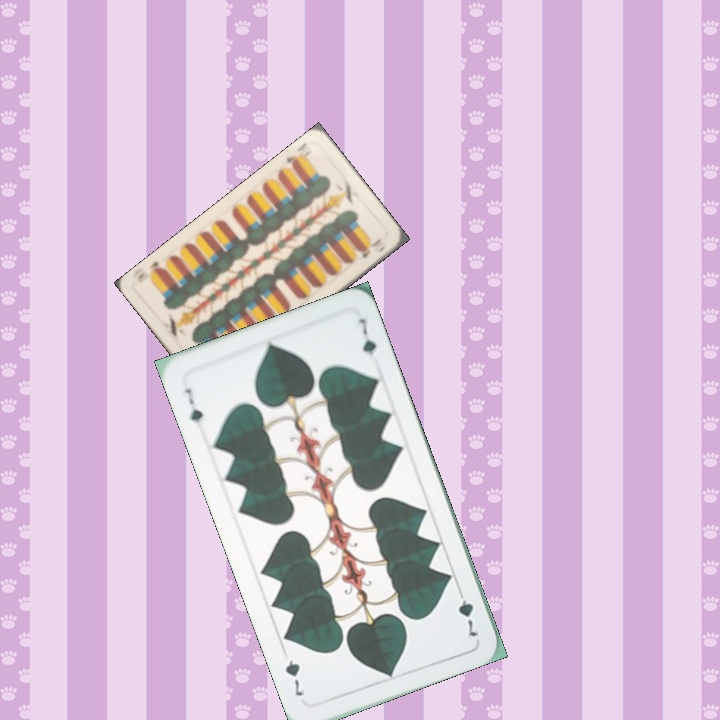E10: (281, 138, 309, 171)
G7: (453, 583, 481, 639), (180, 384, 206, 426)
